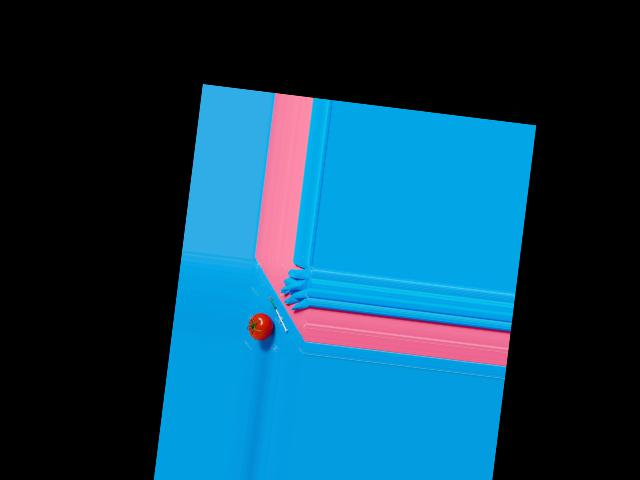tomato: (247, 311, 275, 341)
